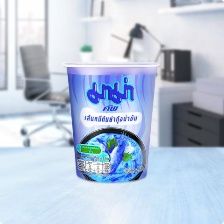paper_cup: (57, 56, 163, 186)
